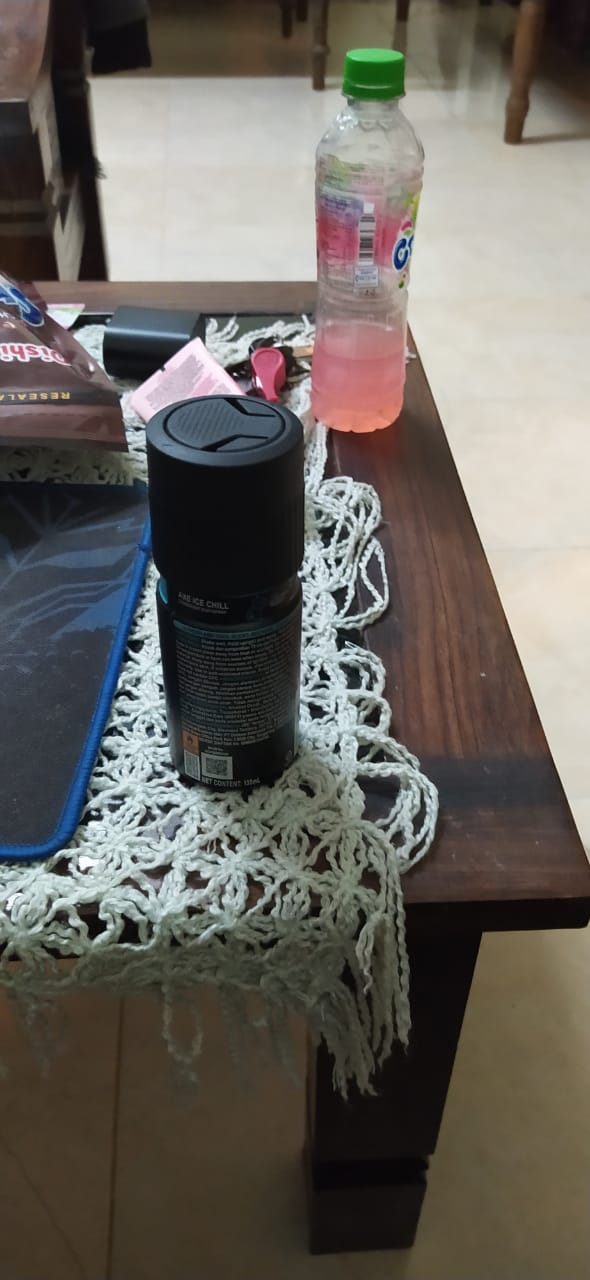axe: (137, 394, 308, 794)
